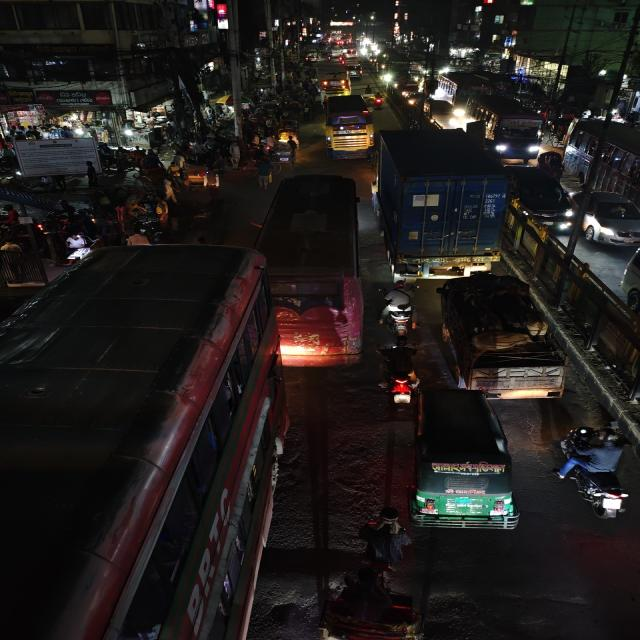bus: (0, 241, 291, 640), (254, 169, 364, 360), (463, 89, 546, 161), (320, 92, 378, 160)
car: (505, 164, 581, 232), (577, 186, 640, 251)
cng: (402, 386, 523, 540)
motorcycle: (560, 422, 632, 524), (382, 276, 421, 339), (383, 338, 417, 408)
pickup_van: (431, 271, 576, 397)
truck: (368, 124, 507, 280)
